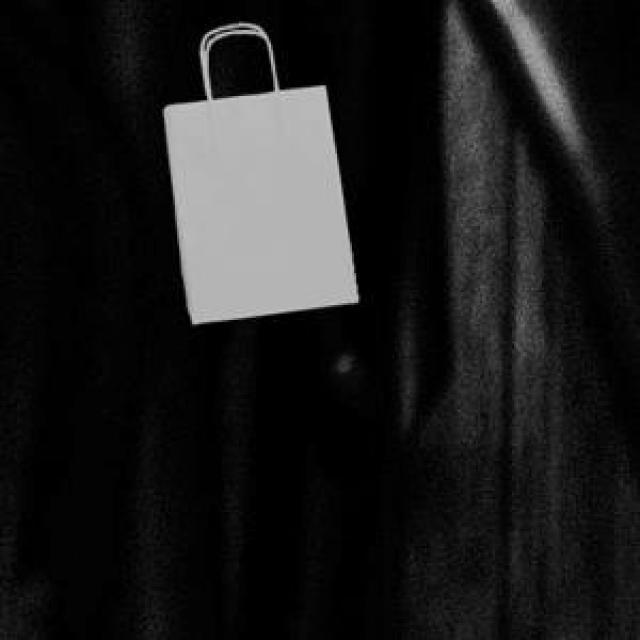paper: (160, 19, 354, 320)
